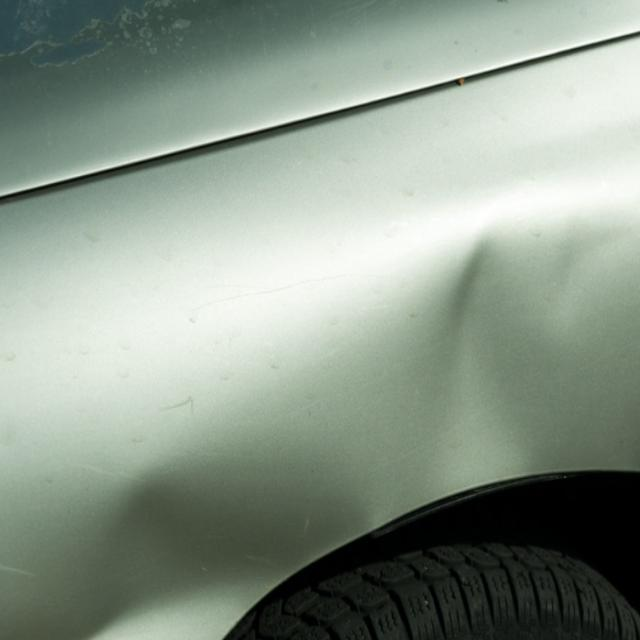dents: (62, 459, 234, 640), (412, 228, 512, 504), (545, 196, 615, 365)
